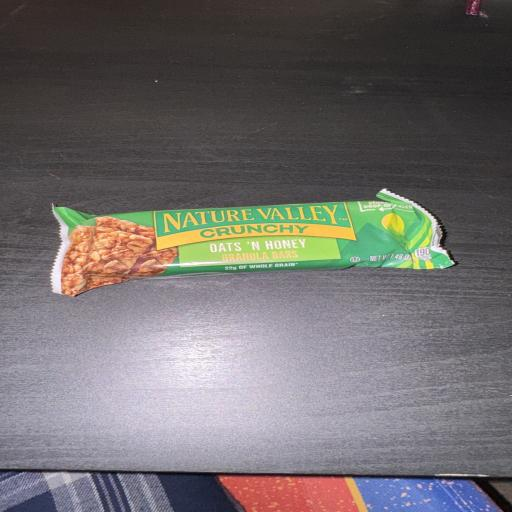granola: (52, 190, 453, 295)
